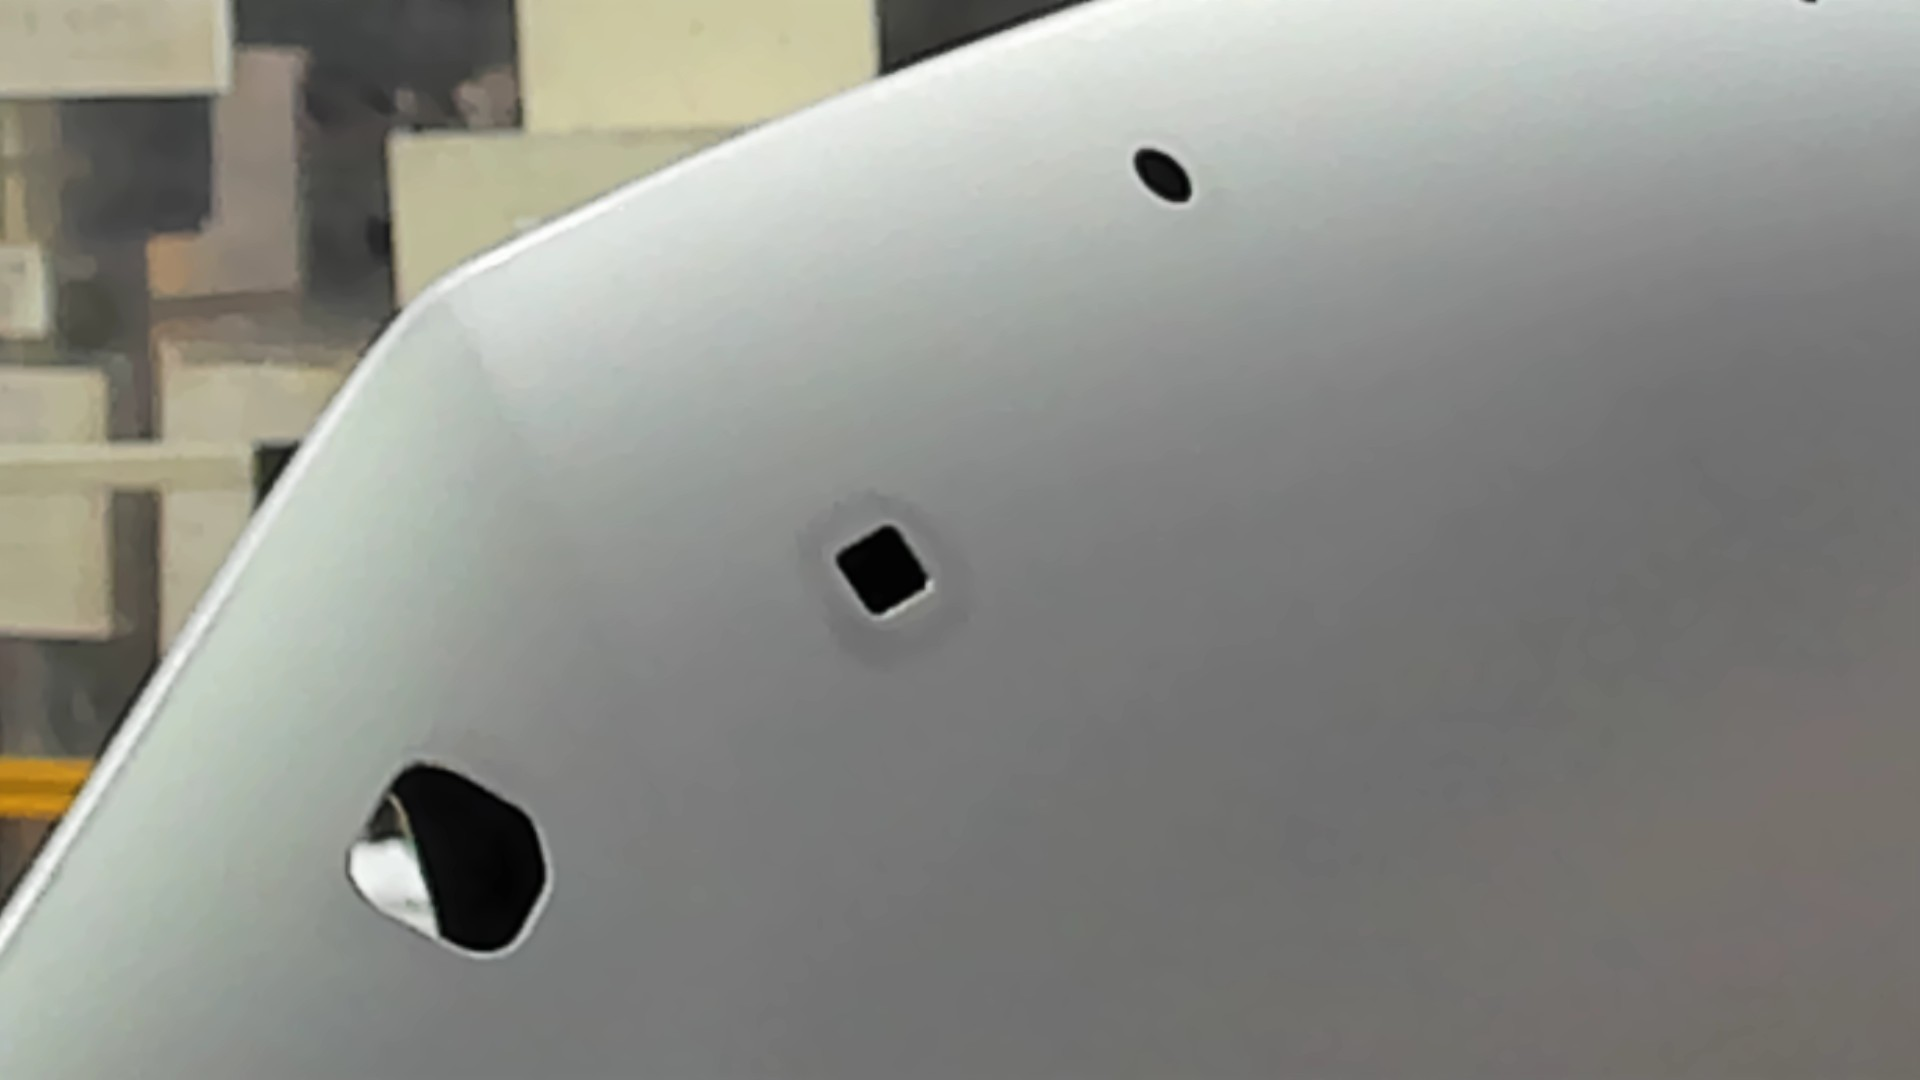capo: (947, 211, 1920, 1080)
chico: (1130, 144, 1196, 208)
grande: (343, 756, 556, 967)
mediano: (823, 516, 938, 626)
